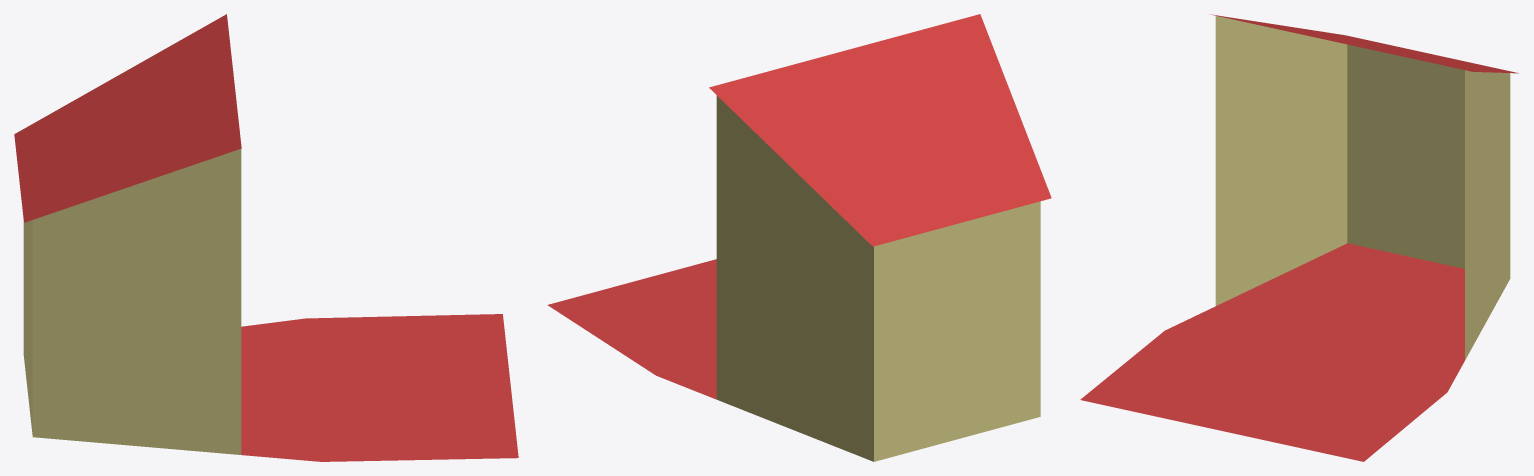
3 renders of one model, left to right at view 1: azimuth 30°, elevation 25°; view 2: azimuth 150°, elevation 25°; view 3: azimuth 270°, elevation 25°, orthographic. The views are drawn at different scales.
Bounding box in the file's own units: 15.57 × 12.97 × 9.45.
